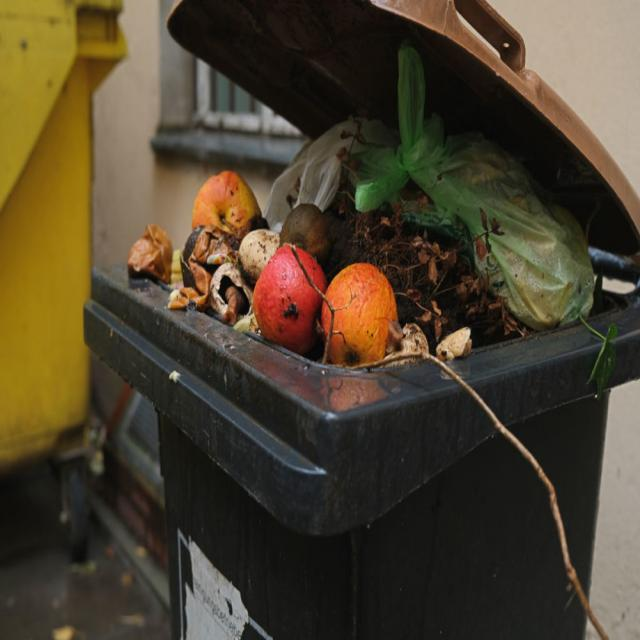Wet: (106, 129, 548, 433), (185, 166, 268, 241)
